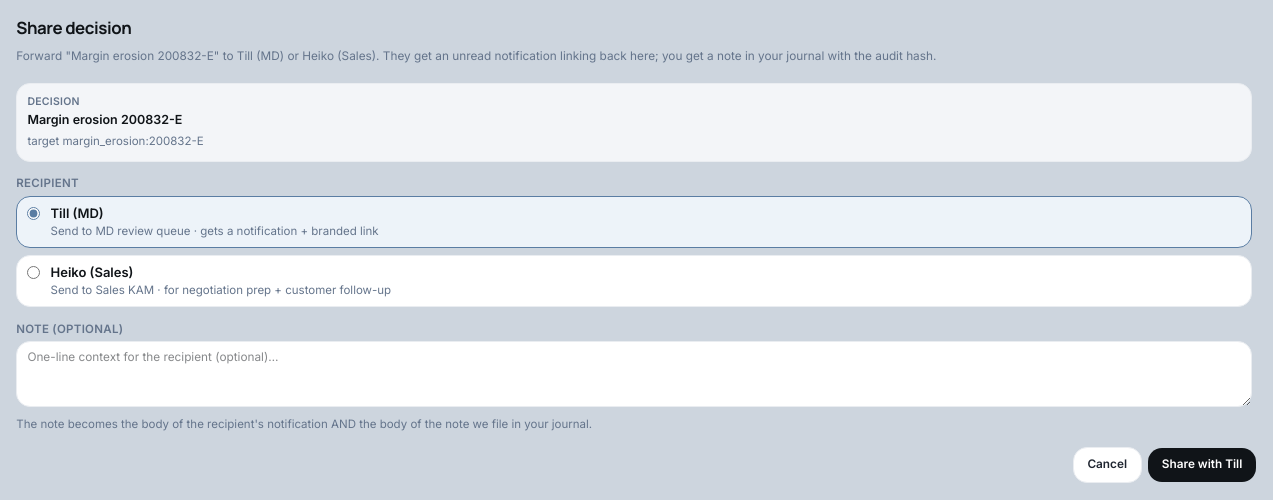
ShareDecisionForm (Phase 11) › renders the unresolved-recipient warning when no user matches the persona
Click the button "Share with Till". click: click(1202, 465)
box: top-left (1148, 448), bottom-right (1256, 482)
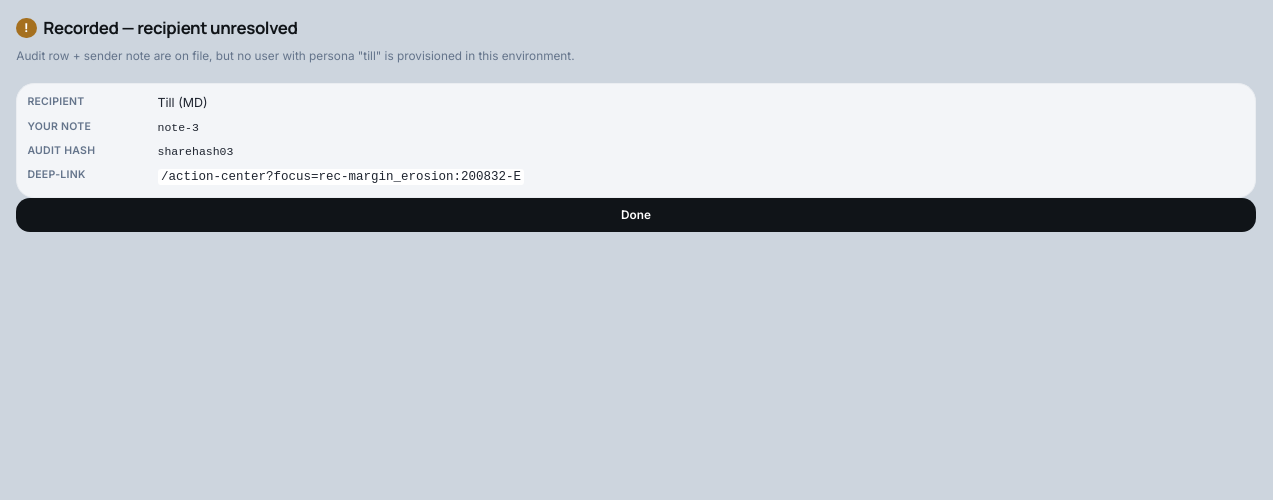
Result: the heading "Recorded — recipient unresolved" is shown at top-left (43, 16), bottom-right (298, 40)
